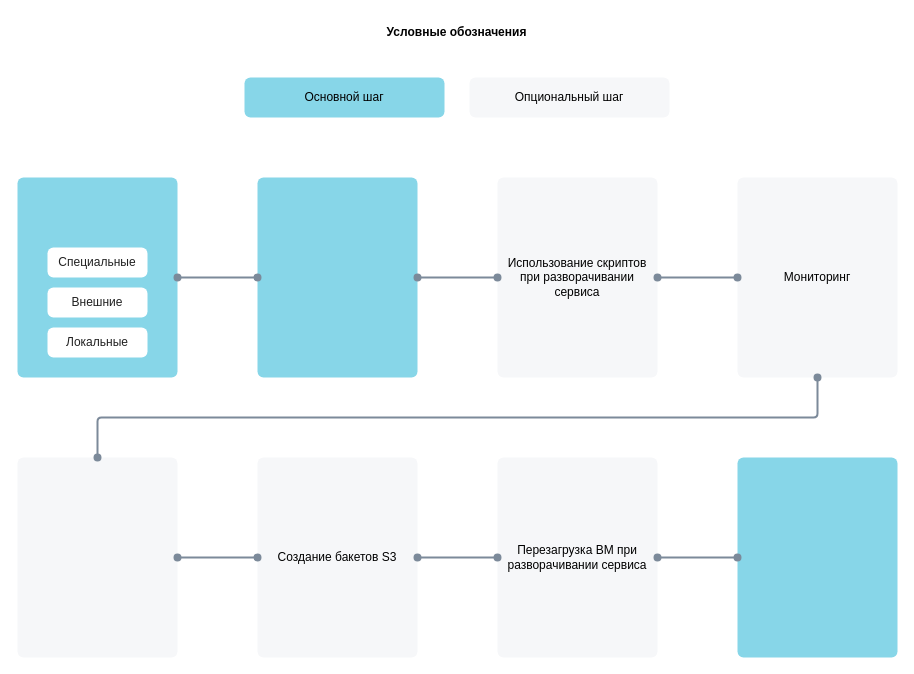
The diagram is 914 pixels wide and 674 high, and some of its shapes have lost their labels. Here are the shapes that lost their labels. From the top down, the box of each, then its label:
(17, 177, 177, 377): Входные переменные Terraform (variables)
(257, 177, 417, 377): Описание инфраструктуры (виртуальная сеть, диск, ВМ)
(17, 457, 177, 657): Использование DNS облачной платформы
(737, 457, 897, 657): Выходные параметры Terraform (outputs)
